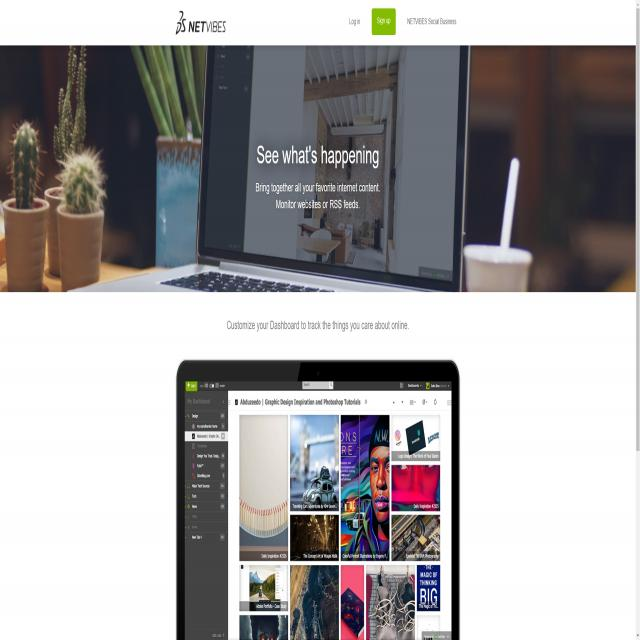menu-bar: (344, 6, 460, 36)
